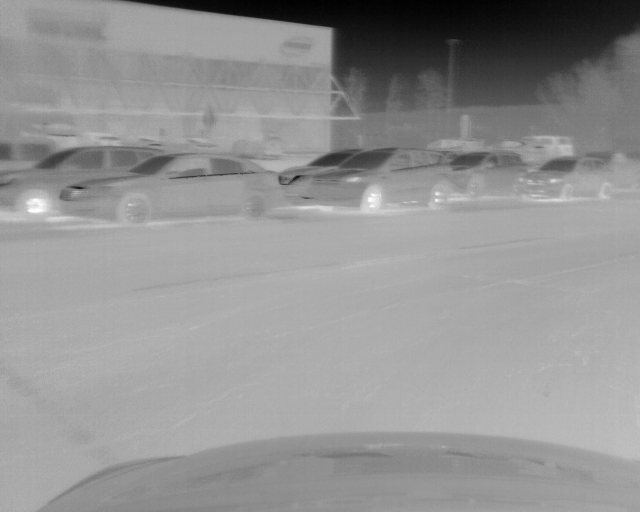car: (60, 151, 288, 221), (1, 147, 164, 219), (314, 148, 449, 210), (282, 149, 354, 203), (528, 155, 613, 200), (449, 150, 526, 198)
